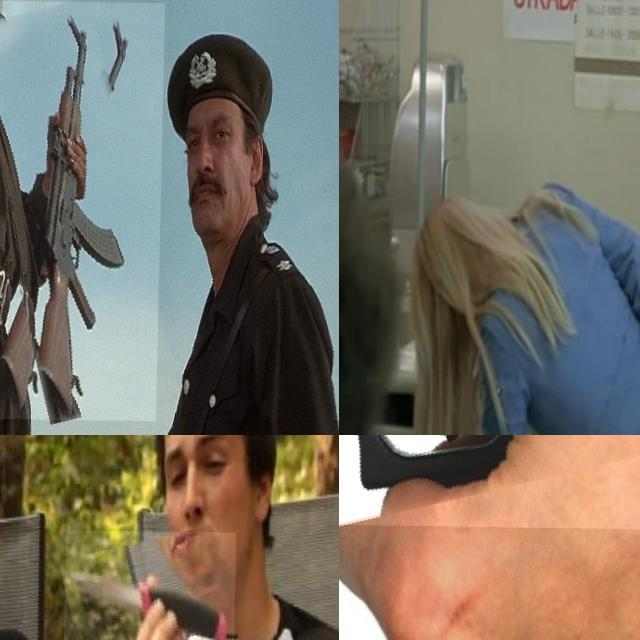-: (64, 529, 237, 640)
gun-knife-thesis - v11 Yolov5 augmented: (0, 0, 165, 420), (339, 435, 640, 640)
